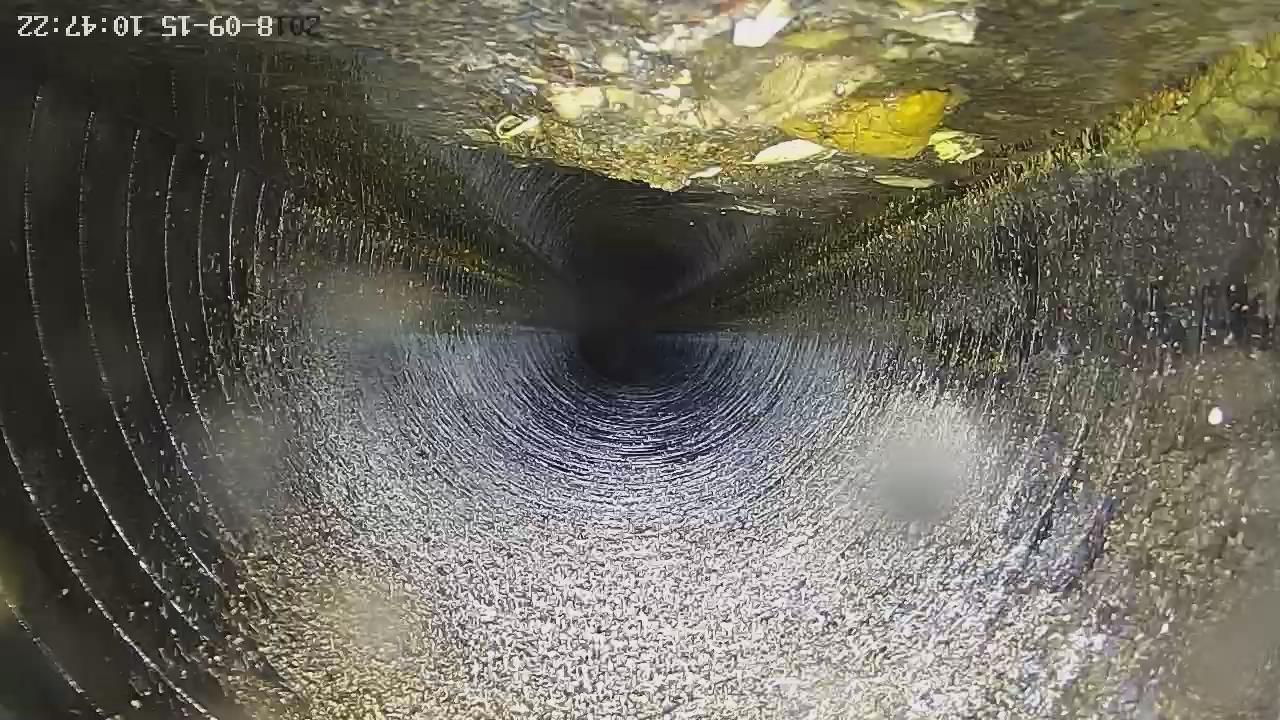FZ: (1, 1, 1280, 213)
